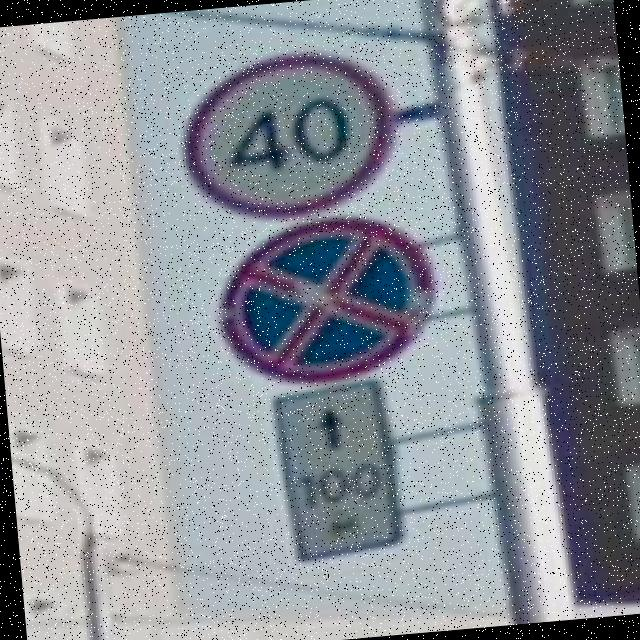Ograniczenie predkosci do 40: (177, 43, 407, 224)
Zakaz zatrzymywania sie: (212, 208, 442, 394)
